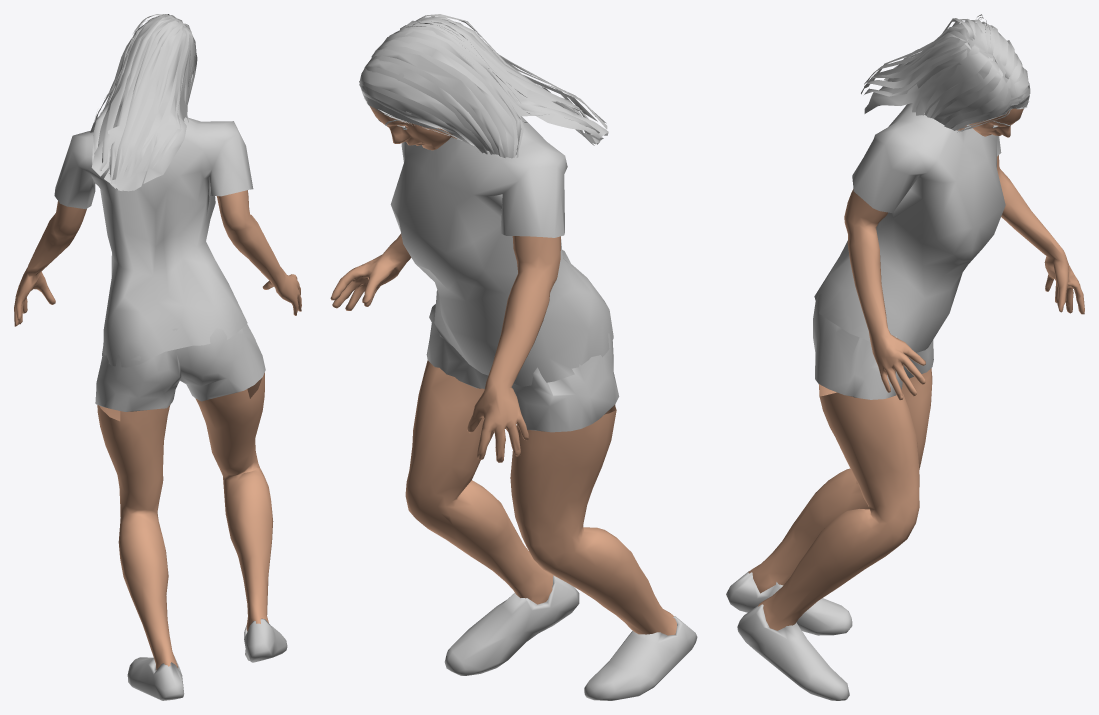
File: player2att_000016.obj
3 views of the same model, side by side, from view 1: azimuth 30°, elevation 25°; view 2: azimuth 150°, elevation 25°; view 3: azimuth 270°, elevation 25° (orthographic). The views are drawn at different scales.
Visible parts, largest first — view 1: player2:tshirt02, player2:Body, player2:fhair01, player2:short01, player2:shoes02; view 2: player2:Body, player2:tshirt02, player2:fhair01, player2:shoes02, player2:short01; view 3: player2:Body, player2:tshirt02, player2:fhair01, player2:shoes02, player2:short01.
Part boxes in pixels (box(x1,y1,x2,y2)): player2:tshirt02: box(54, 117, 253, 367); player2:Body: box(14, 190, 301, 670); player2:fhair01: box(90, 14, 197, 191); player2:short01: box(95, 324, 265, 411); player2:shoes02: box(127, 618, 287, 700); player2:Body: box(330, 106, 676, 635); player2:tshirt02: box(390, 116, 613, 386); player2:fhair01: box(359, 14, 608, 158); player2:shoes02: box(444, 575, 697, 700); player2:short01: box(426, 304, 619, 432); player2:Body: box(748, 108, 1084, 630); player2:tshirt02: box(814, 103, 1005, 352); player2:fhair01: box(861, 14, 1030, 132); player2:shoes02: box(726, 571, 852, 700); player2:short01: box(813, 294, 933, 399).
Bounding box in the file's own units: 6.01 × 15.46 × 7.65.
